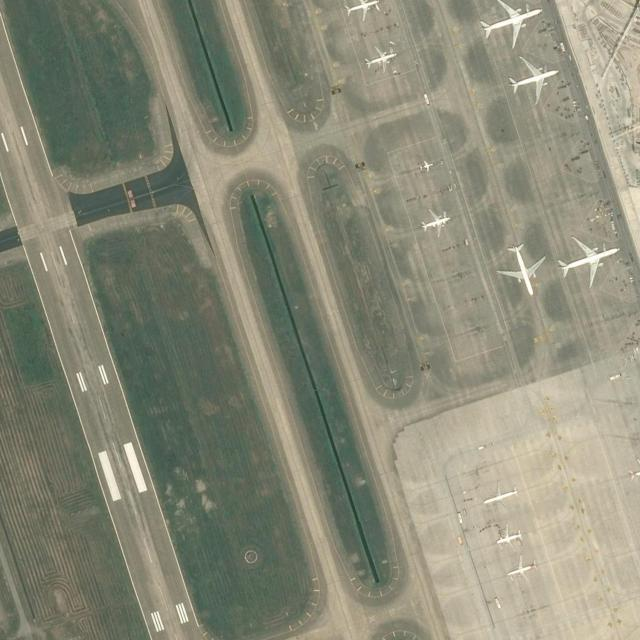Aircraft: (557, 235, 623, 286), (478, 0, 543, 48), (497, 242, 548, 296), (505, 56, 558, 105), (479, 481, 521, 509), (417, 209, 453, 239), (362, 46, 398, 74), (505, 556, 539, 582), (493, 523, 525, 549), (341, 0, 378, 22), (627, 460, 640, 488), (416, 160, 434, 176)
